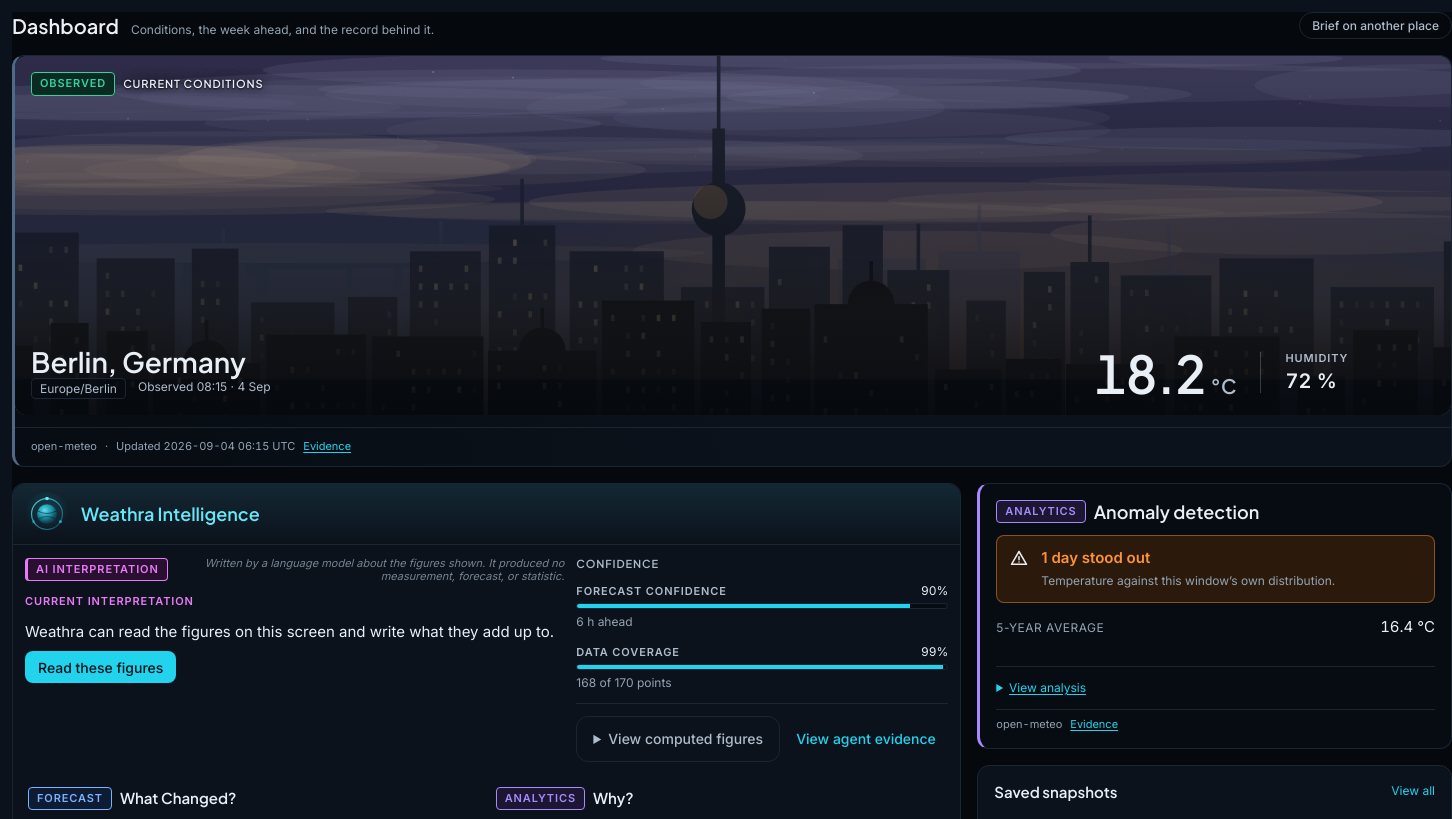
Test: data classes, provenance, and the line the model does not cross › asks the agent only when asked to, and shows its answer inside the interpretation panel
This screenshot has width=1452, height=819.
Click the button "Read these figures" at (101, 667), box left=25, top=651, right=176, bottom=683
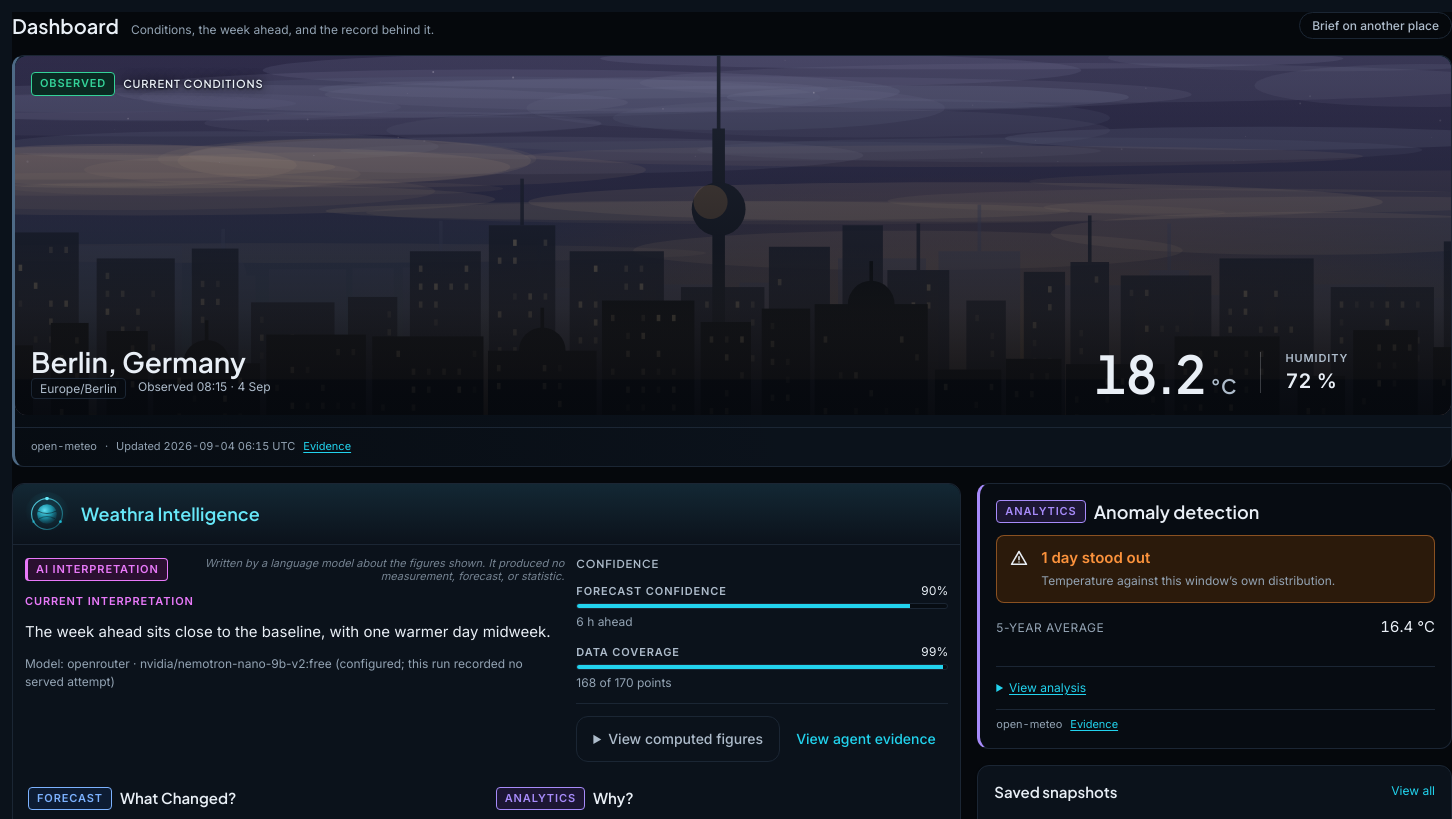
Now the text "sits close to the baseline" is shown, box left=25, top=622, right=551, bottom=641
Now the text "Model: openrouter · nvidia" is shown, box left=25, top=655, right=564, bottom=690
